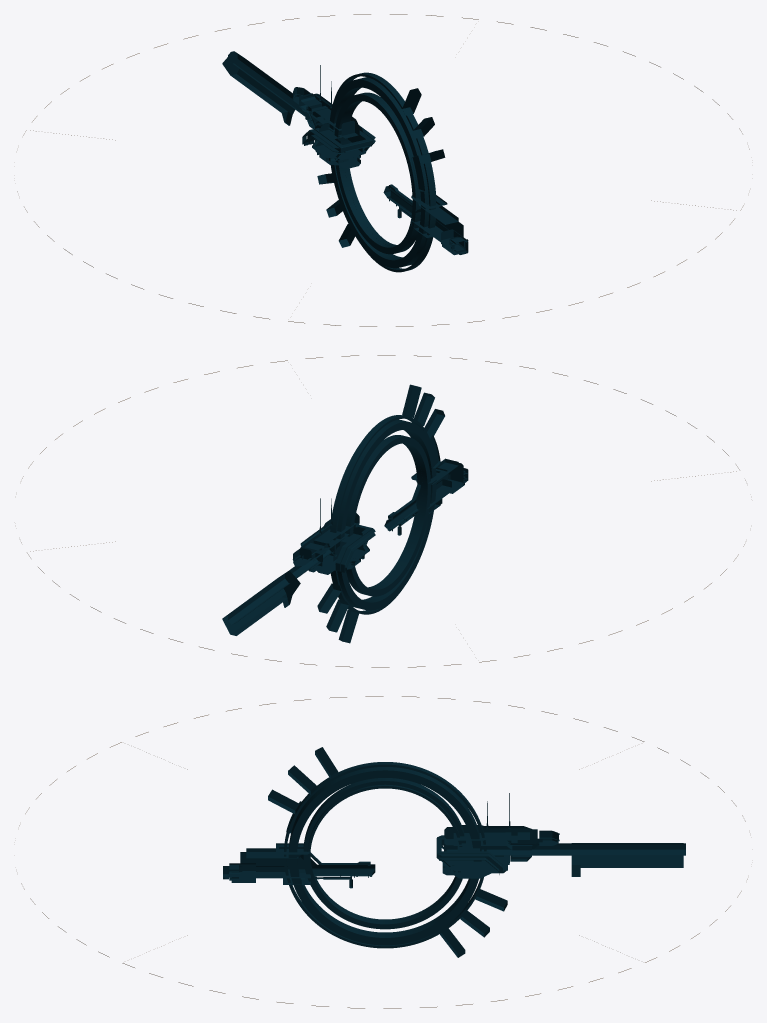
File: SpaceStation.dae
3 views of the same model, one above another, from view 1: azimuth 30°, elevation 25°; view 2: azimuth 150°, elevation 25°; view 3: azimuth 270°, elevation 25° (orthographic).
Visible parts, largest first — view 1: spacestation, pCylinder1; view 2: spacestation, pCylinder1; view 3: spacestation, pCylinder1.
Part boxes in pixels (box(x1,y1,x2,y2)): spacestation: box(222, 51, 468, 272); pCylinder1: box(17, 14, 749, 326); spacestation: box(222, 384, 468, 643); pCylinder1: box(21, 355, 745, 667); spacestation: box(223, 747, 685, 957); pCylinder1: box(19, 696, 747, 1008).
Size of the model in its own units: 3 by 0.9279 by 3.
